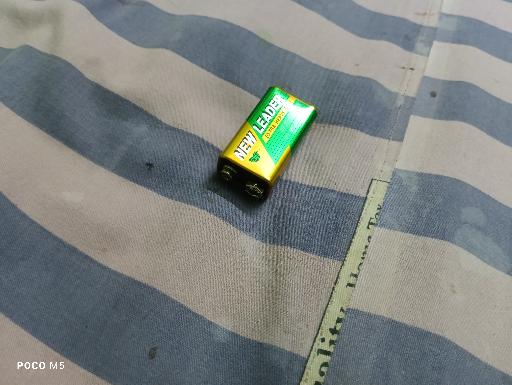Battery: (217, 86, 317, 203)
